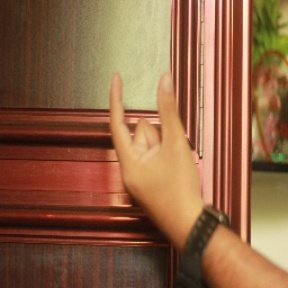U: (103, 63, 194, 199)
